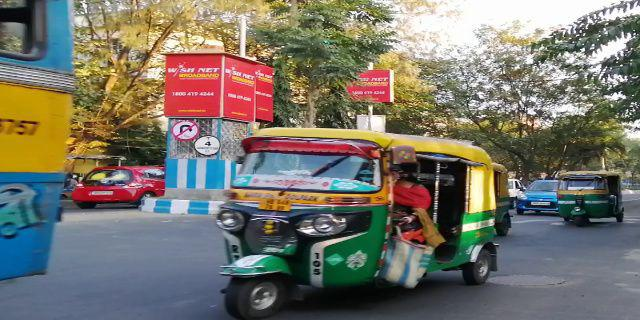Autorickshaw: (210, 122, 509, 317), (556, 169, 626, 225)
Car: (69, 160, 164, 211), (516, 176, 559, 217)
